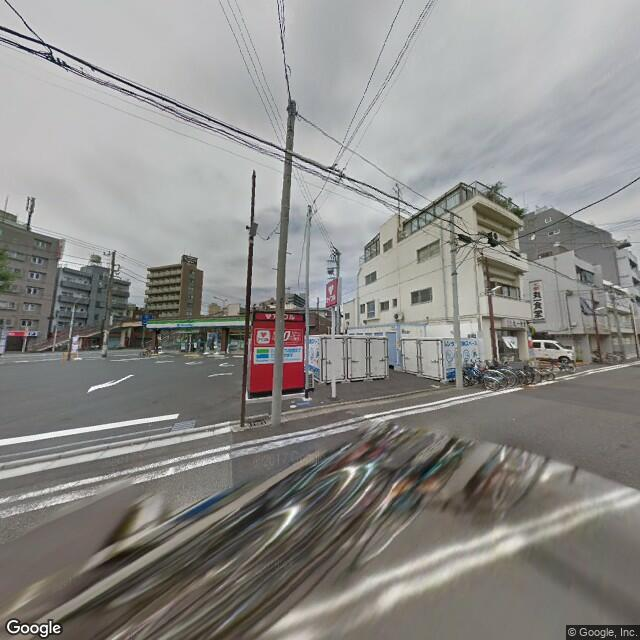family_mart: (146, 317, 248, 329)
